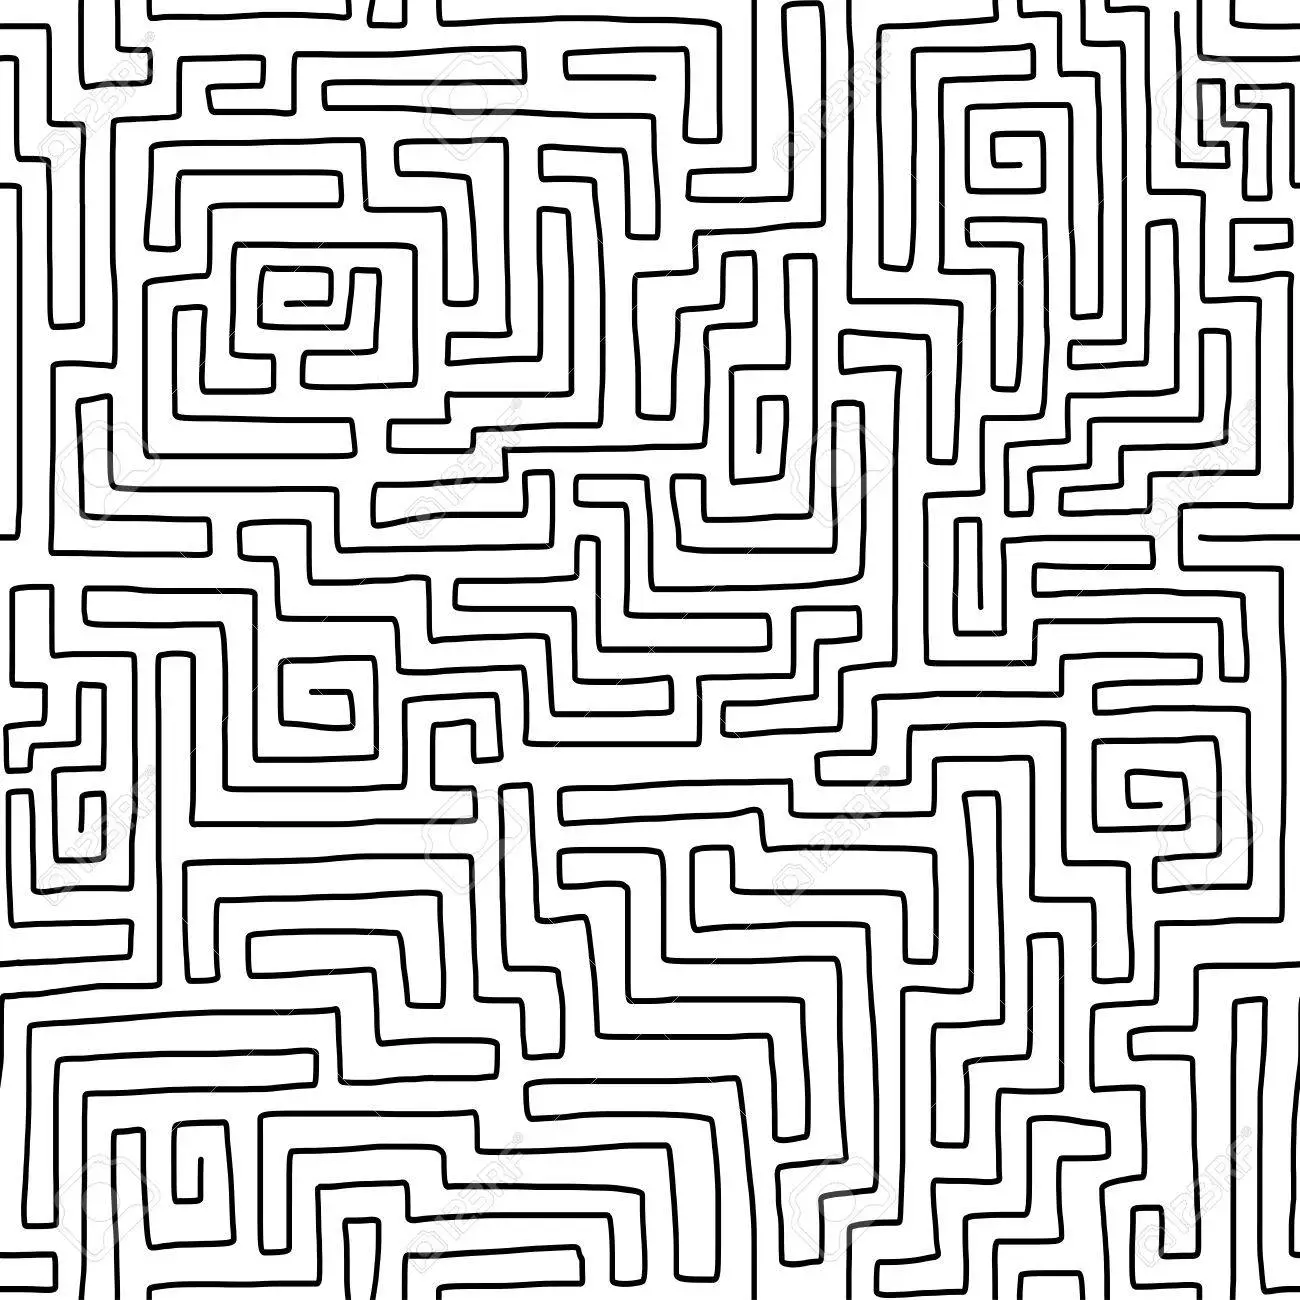maze: (7, 4, 1296, 1296)
